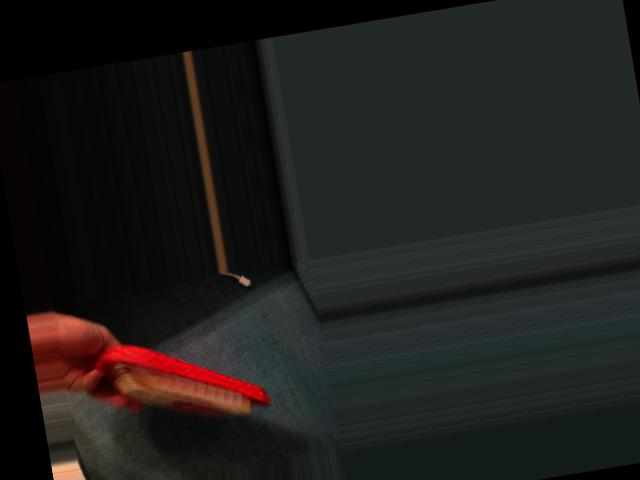cheese: (91, 314, 272, 444)
